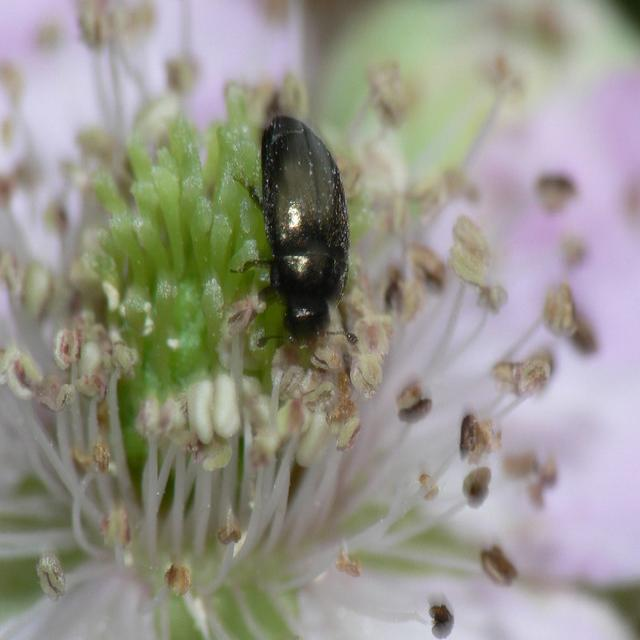pollen_beetle: (235, 105, 368, 382)
